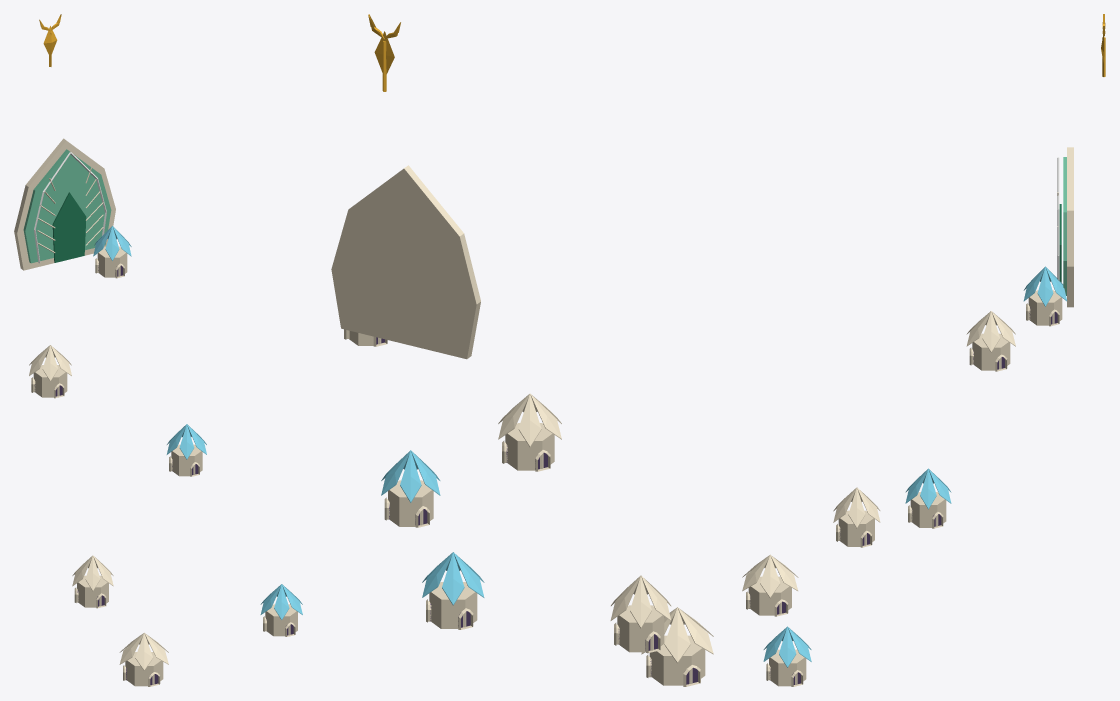
Rendered from building.glb.
The picture shows the model from 3 angles, left to right: view 1: azimuth 30°, elevation 25°; view 2: azimuth 150°, elevation 25°; view 3: azimuth 270°, elevation 25°; orthographic projection. The views are drawn at different scales.
Parts seen in each view (by area): view 1: 23_R3A_Aris_LeafPalaceAndPetalPavilions; view 2: 23_R3A_Aris_LeafPalaceAndPetalPavilions; view 3: 23_R3A_Aris_LeafPalaceAndPetalPavilions.
Part boxes in pixels (bbox=[...]): 23_R3A_Aris_LeafPalaceAndPetalPavilions: bbox=[14, 14, 302, 686]; 23_R3A_Aris_LeafPalaceAndPetalPavilions: bbox=[331, 14, 713, 686]; 23_R3A_Aris_LeafPalaceAndPetalPavilions: bbox=[742, 14, 1105, 686].
Size of the model in its own units: 0.6066 by 1.57 by 0.8385.
